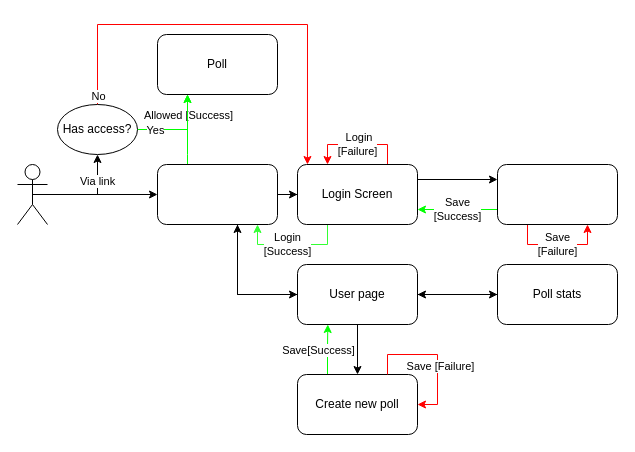
The diagram is 635 pixels wide and 452 high, and some of its shapes have lost their labels. The shapes that lost their labels are listed below. From the top down, each one's centre as x and y in pixels, then its label:
pixel 32 194: User
pixel 217 194: Main Screen/ Input Poll Code
pixel 557 194: Create new user
